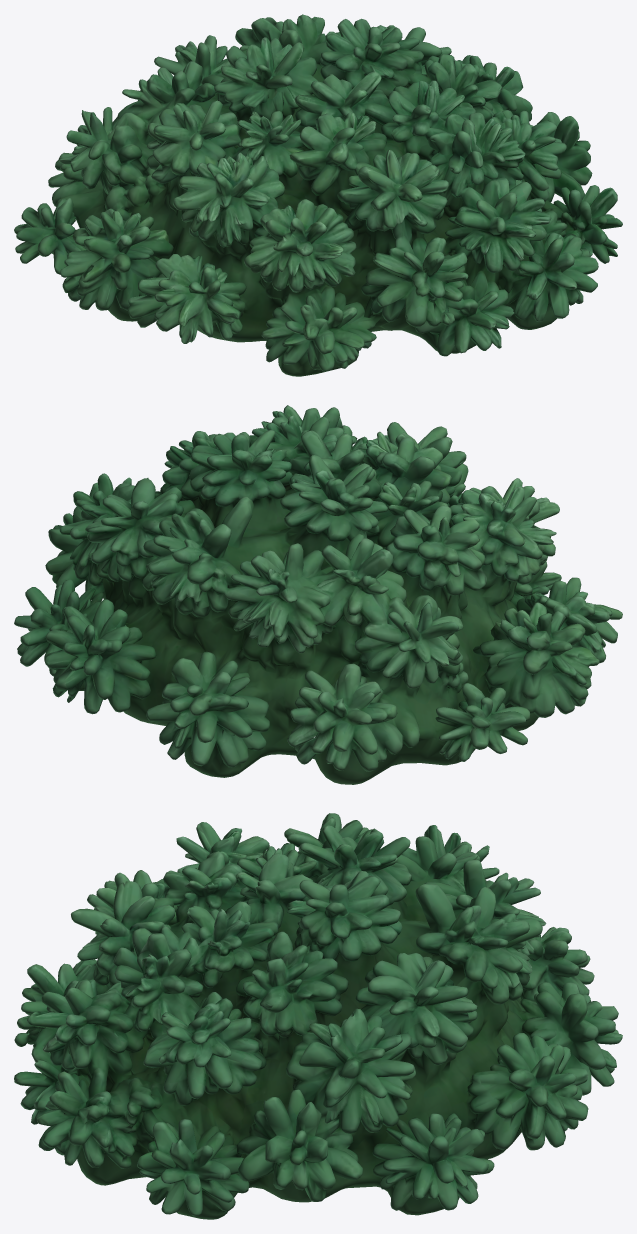
File: bush.glb
3 renders of one model, top to bottom at view 1: azimuth 30°, elevation 25°; view 2: azimuth 150°, elevation 25°; view 3: azimuth 270°, elevation 25°, orthographic. The views are drawn at different scales.
Visible parts, largest first — view 1: tripo_node_8ea8246f-bcb2-4a8b-aa5c-652d87efac1a; view 2: tripo_node_8ea8246f-bcb2-4a8b-aa5c-652d87efac1a; view 3: tripo_node_8ea8246f-bcb2-4a8b-aa5c-652d87efac1a.
Part boxes in pixels (x1,y1,x2,y2): tripo_node_8ea8246f-bcb2-4a8b-aa5c-652d87efac1a: (14,14,622,376); tripo_node_8ea8246f-bcb2-4a8b-aa5c-652d87efac1a: (14,405,622,784); tripo_node_8ea8246f-bcb2-4a8b-aa5c-652d87efac1a: (14,813,622,1219).
Size of the model in its own units: 0.9787 by 0.4245 by 0.8883.
Materials: 1 (1 with a texture image).
